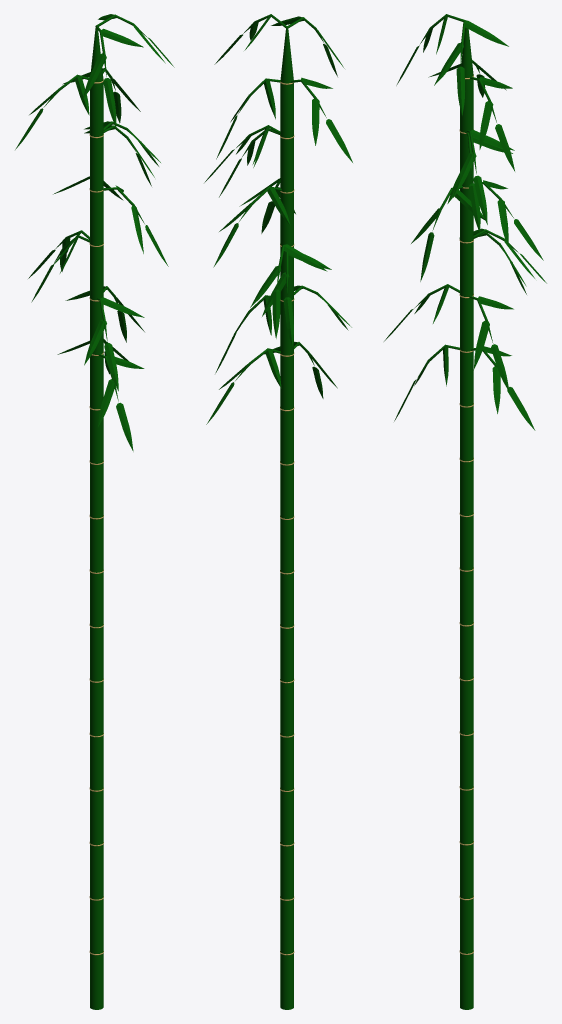
3 renders of one model, left to right at view 1: azimuth 30°, elevation 25°; view 2: azimuth 150°, elevation 25°; view 3: azimuth 270°, elevation 25°, orthographic.
Parts seen in each view (by area): view 1: 竹２; view 2: 竹２; view 3: 竹２.
Part boxes in pixels (x1,y1,x2,y2): 竹２: [15, 14, 174, 1009]; 竹２: [204, 14, 352, 1009]; 竹２: [384, 14, 546, 1009].
Bounding box in the file's own units: 800 × 5044 × 762.
